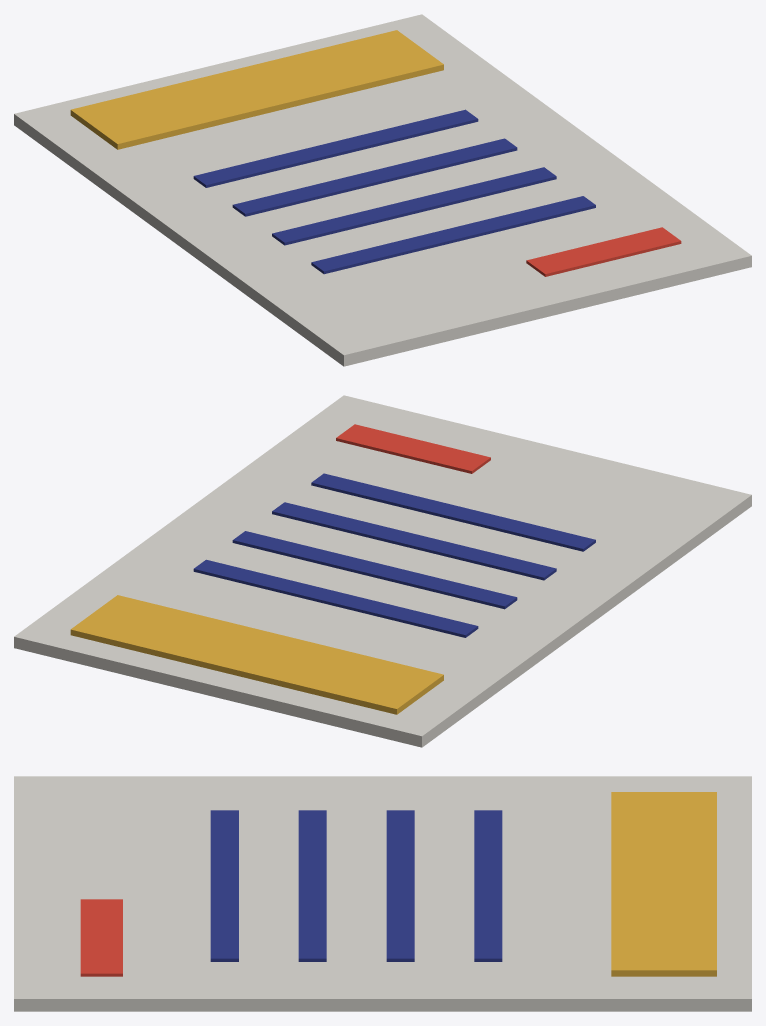
The model's file is jeweler_invoice.glb.
3 renders of one model, top to bottom at view 1: azimuth 30°, elevation 25°; view 2: azimuth 150°, elevation 25°; view 3: azimuth 270°, elevation 25°, orthographic. The views are drawn at different scales.
Visible parts, largest first — view 1: paper_photo_white, header_gold_shiny, line_ink_blue (×4), total_logo_red; view 2: paper_photo_white, header_gold_shiny, line_ink_blue (×4), total_logo_red; view 3: paper_photo_white, header_gold_shiny, line_ink_blue (×4), total_logo_red.
Boxes of the visible parts, x1,y1,x2,y2 form: paper_photo_white: (14, 14, 751, 366); header_gold_shiny: (70, 30, 443, 149); line_ink_blue (×4): (193, 109, 595, 274); total_logo_red: (526, 227, 681, 276); paper_photo_white: (14, 395, 751, 747); header_gold_shiny: (70, 595, 443, 714); line_ink_blue (×4): (193, 473, 595, 637); total_logo_red: (336, 424, 490, 473); paper_photo_white: (14, 776, 751, 1011); header_gold_shiny: (611, 792, 716, 976); line_ink_blue (×4): (210, 810, 502, 961); total_logo_red: (80, 899, 122, 976).
Size of the model in its own units: 0.15 by 0.006 by 0.21.
